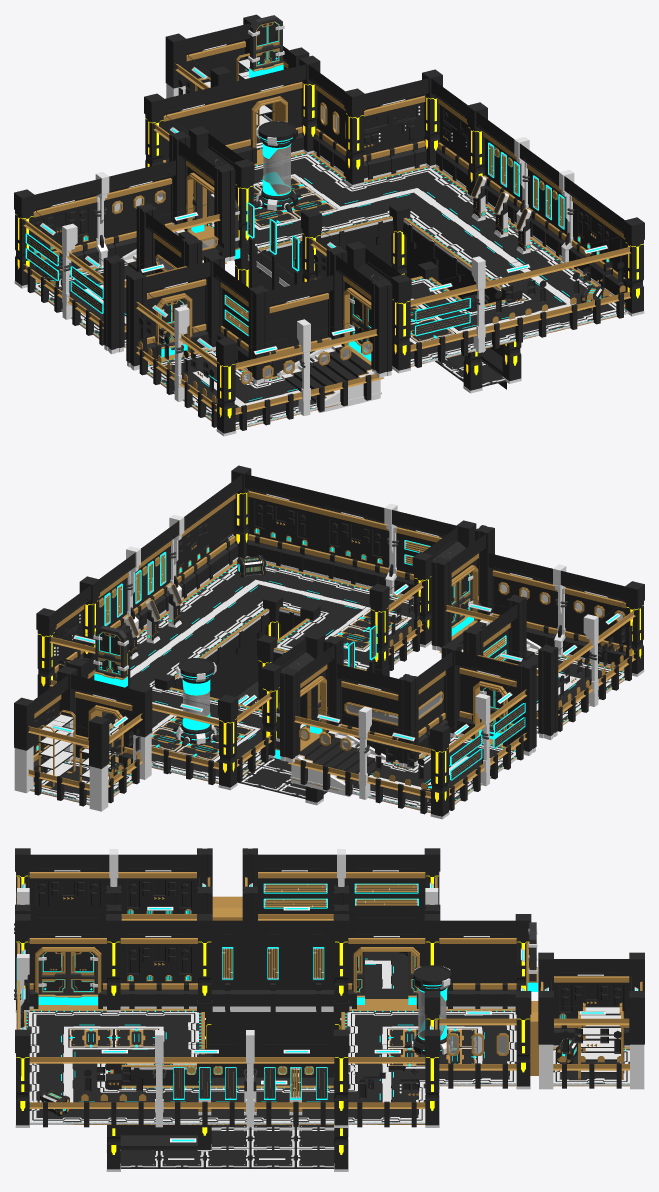
The model's file is SC_Solaris.fbx.
3 renders of one model, top to bottom at view 1: azimuth 30°, elevation 25°; view 2: azimuth 150°, elevation 25°; view 3: azimuth 270°, elevation 25°, orthographic. The views are drawn at different scales.
Parts seen in each view (by area): view 1: SM_Wall_Paneling, SM_Door_Single_Wall, SM_Three_Windows_Rounded_Wall, SM_Wall_3_Glow.007, SM_Wall_Plain, SM_Wall_3_Glow.001, SM_Wall_Vert_Neon_Pipe, SM_Wall_Plain.002, SM_Wall_Piping, SM_Staircase, SM_Pod, SM_Door_Single_Wall_Frame.001 (+84 smaller); view 2: SM_Wall_3_Glow.003, SM_Wall_3_Glow.002, SM_Three_Windows_Rounded_Wall.002, SM_Three_Windows_Rounded_Wall.001, SM_Long_Window_Wall.001, SM_Wall_3_Glow.001, SM_Door_Single_Wall_1_Large, SM_Staircase.001, SM_Wall_Vert_Neon_Pipe, SM_Door_Single_Wall_Frame, SM_Pod, SM_Wall_Piping (+86 smaller); view 3: SM_Wall_3_Glow.004, SM_Wall_Plain.003, SM_Wall_3_Glow.005, SM_Wall_Piping.002, SM_Wall_3_Glow.008, SM_Wall_Half_2.001, SM_Wall_3_Glow.006, SM_Wall_Piping.001, SM_Wall_Half_2.002, SM_Wall_Half_2, SM_Wall_Vert_Neon_Pipe, SM_Wall_Vert_Neon_Pipe.001 (+98 smaller).
Boxes of the visible parts, <box> form: SM_Wall_Paneling: <box>363,78,428,180</box>; SM_Door_Single_Wall: <box>230,64,306,163</box>; SM_Three_Windows_Rounded_Wall: <box>104,160,175,258</box>; SM_Wall_3_Glow.007: <box>33,178,101,280</box>; SM_Wall_Plain: <box>269,275,333,376</box>; SM_Wall_3_Glow.001: <box>564,176,615,294</box>; SM_Wall_Vert_Neon_Pipe: <box>519,143,567,257</box>; SM_Wall_Plain.002: <box>163,82,234,162</box>; SM_Wall_Piping: <box>410,273,478,367</box>; SM_Staircase: <box>277,344,380,412</box>; SM_Pod: <box>253,121,300,212</box>; SM_Door_Single_Wall_Frame.001: <box>147,261,210,362</box>; SM_Wall_3_Glow.003: <box>313,491,389,587</box>; SM_Wall_3_Glow.002: <box>245,474,318,574</box>; SM_Three_Windows_Rounded_Wall.002: <box>560,571,626,669</box>; SM_Three_Windows_Rounded_Wall.001: <box>488,553,557,647</box>; SM_Long_Window_Wall.001: <box>337,664,398,762</box>; SM_Wall_3_Glow.001: <box>176,488,224,599</box>; SM_Door_Single_Wall_1_Large: <box>455,650,516,748</box>; SM_Staircase.001: <box>291,730,389,796</box>; SM_Wall_Vert_Neon_Pipe: <box>133,521,178,631</box>; SM_Door_Single_Wall_Frame: <box>71,674,132,772</box>; SM_Pod: <box>173,658,218,745</box>; SM_Wall_Piping: <box>392,510,455,598</box>; SM_Wall_3_Glow.004: <box>120,920,198,1008</box>; SM_Wall_Plain.003: <box>439,920,516,1008</box>; SM_Wall_3_Glow.005: <box>117,854,196,913</box>; SM_Wall_Piping.002: <box>258,854,337,913</box>; SM_Wall_3_Glow.008: <box>553,959,629,1046</box>; SM_Wall_Half_2.001: <box>250,920,295,1009</box>; SM_Wall_3_Glow.006: <box>29,854,110,905</box>; SM_Wall_Piping.001: <box>344,854,425,905</box>; SM_Wall_Half_2.002: <box>211,920,250,1009</box>; SM_Wall_Half_2: <box>296,920,334,1009</box>; SM_Wall_Vert_Neon_Pipe: <box>162,1044,246,1127</box>; SM_Wall_Vert_Neon_Pipe.001: <box>253,1044,334,1127</box>.
Size of the model in its own units: 21.77 by 11.22 by 27.73.
